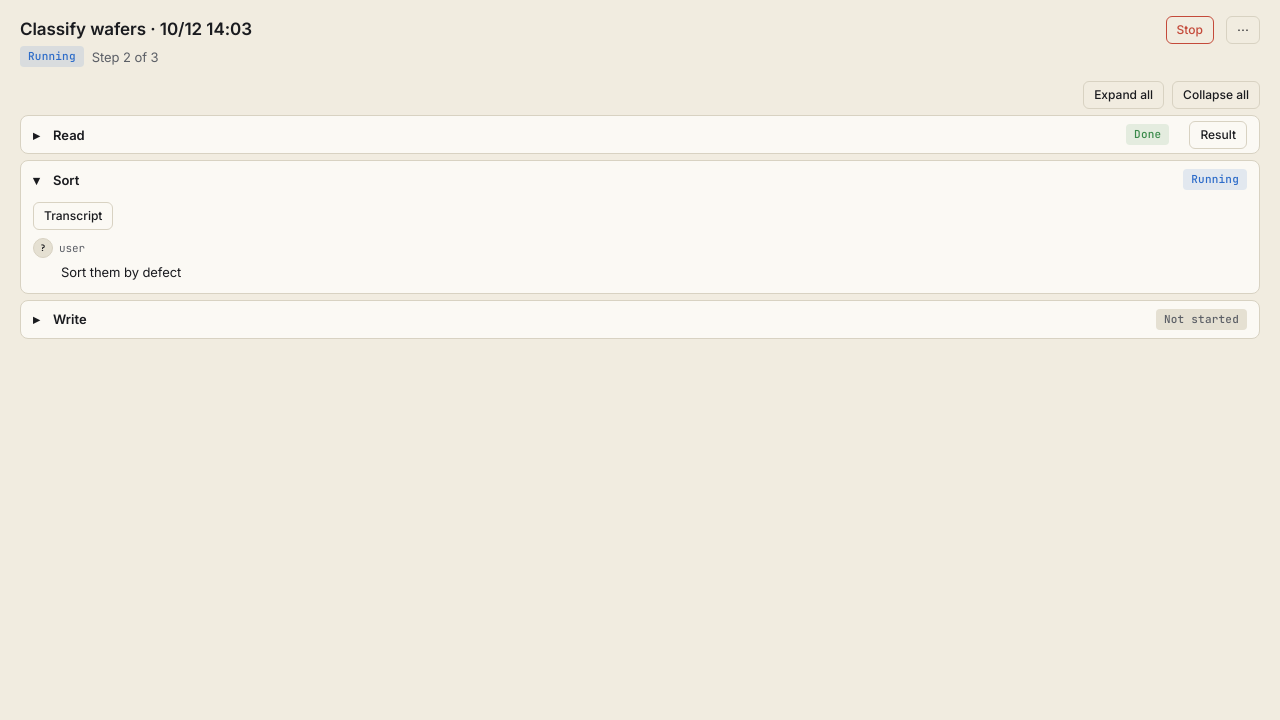
it: ExecutionView › has one row per step, the running one open and a finished one closed
expect the text "Sort them by defect" is shown: met, box left=61, top=264, right=181, bottom=280
expect the text "Read 12 wafers" is not shown: met
Step 1. Click the button "▸ Read Done" → point(69, 135), box left=21, top=116, right=1181, bottom=153
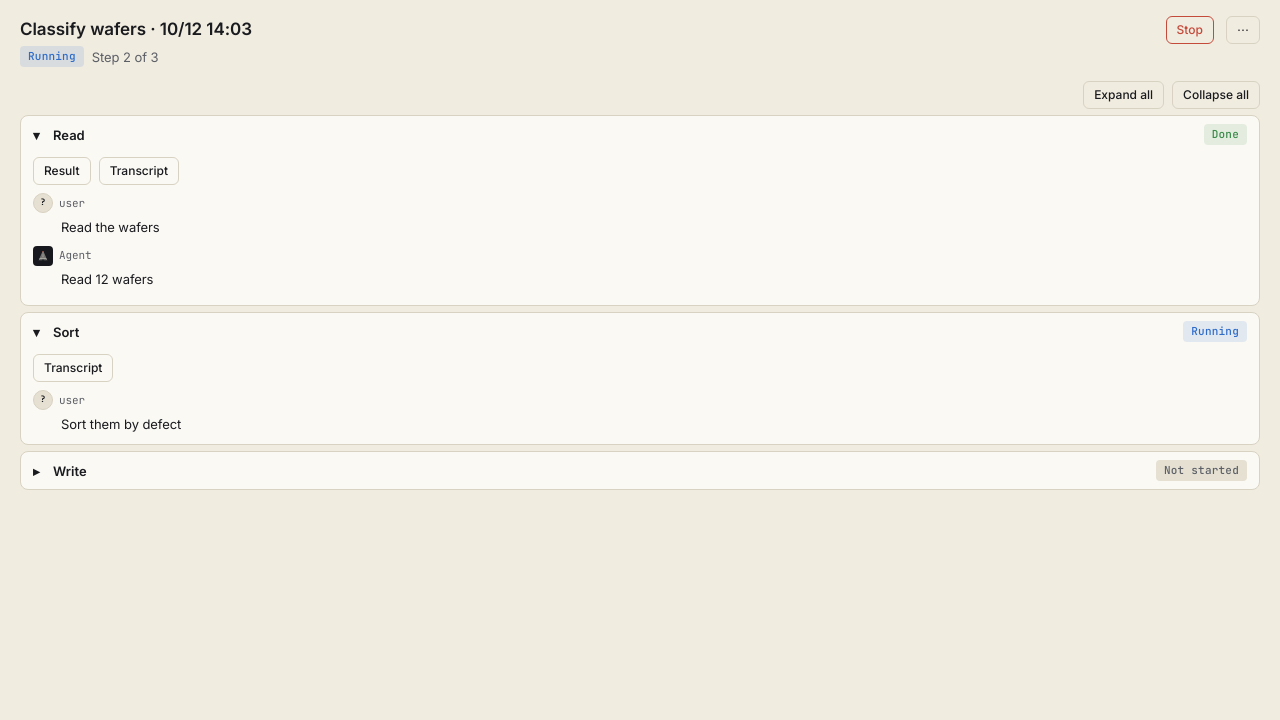
expect the text "Read 12 wafers" is shown: met, box left=61, top=271, right=153, bottom=287
